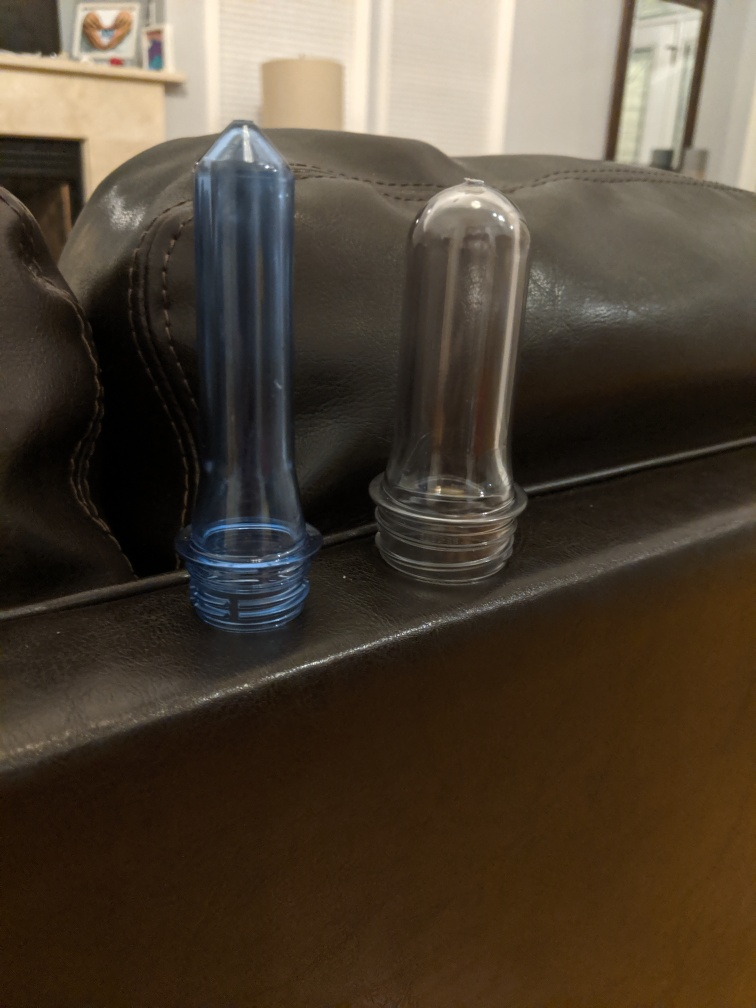preform: (161, 111, 336, 646), (359, 172, 539, 593)
